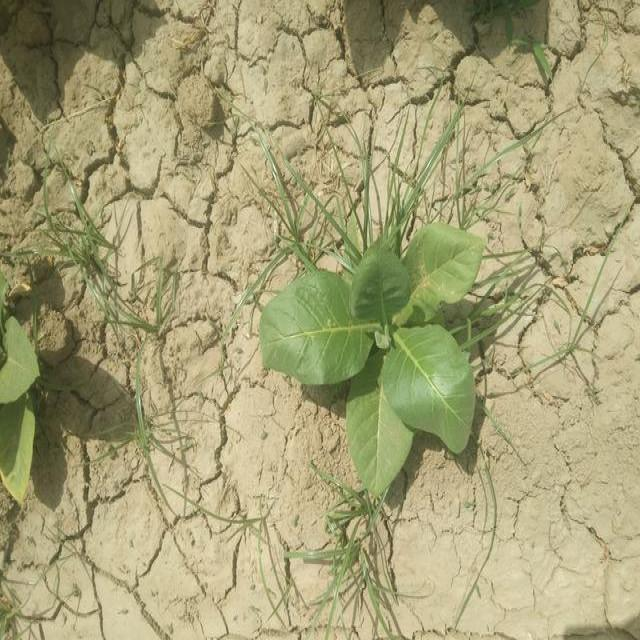crop: (257, 219, 471, 484)
